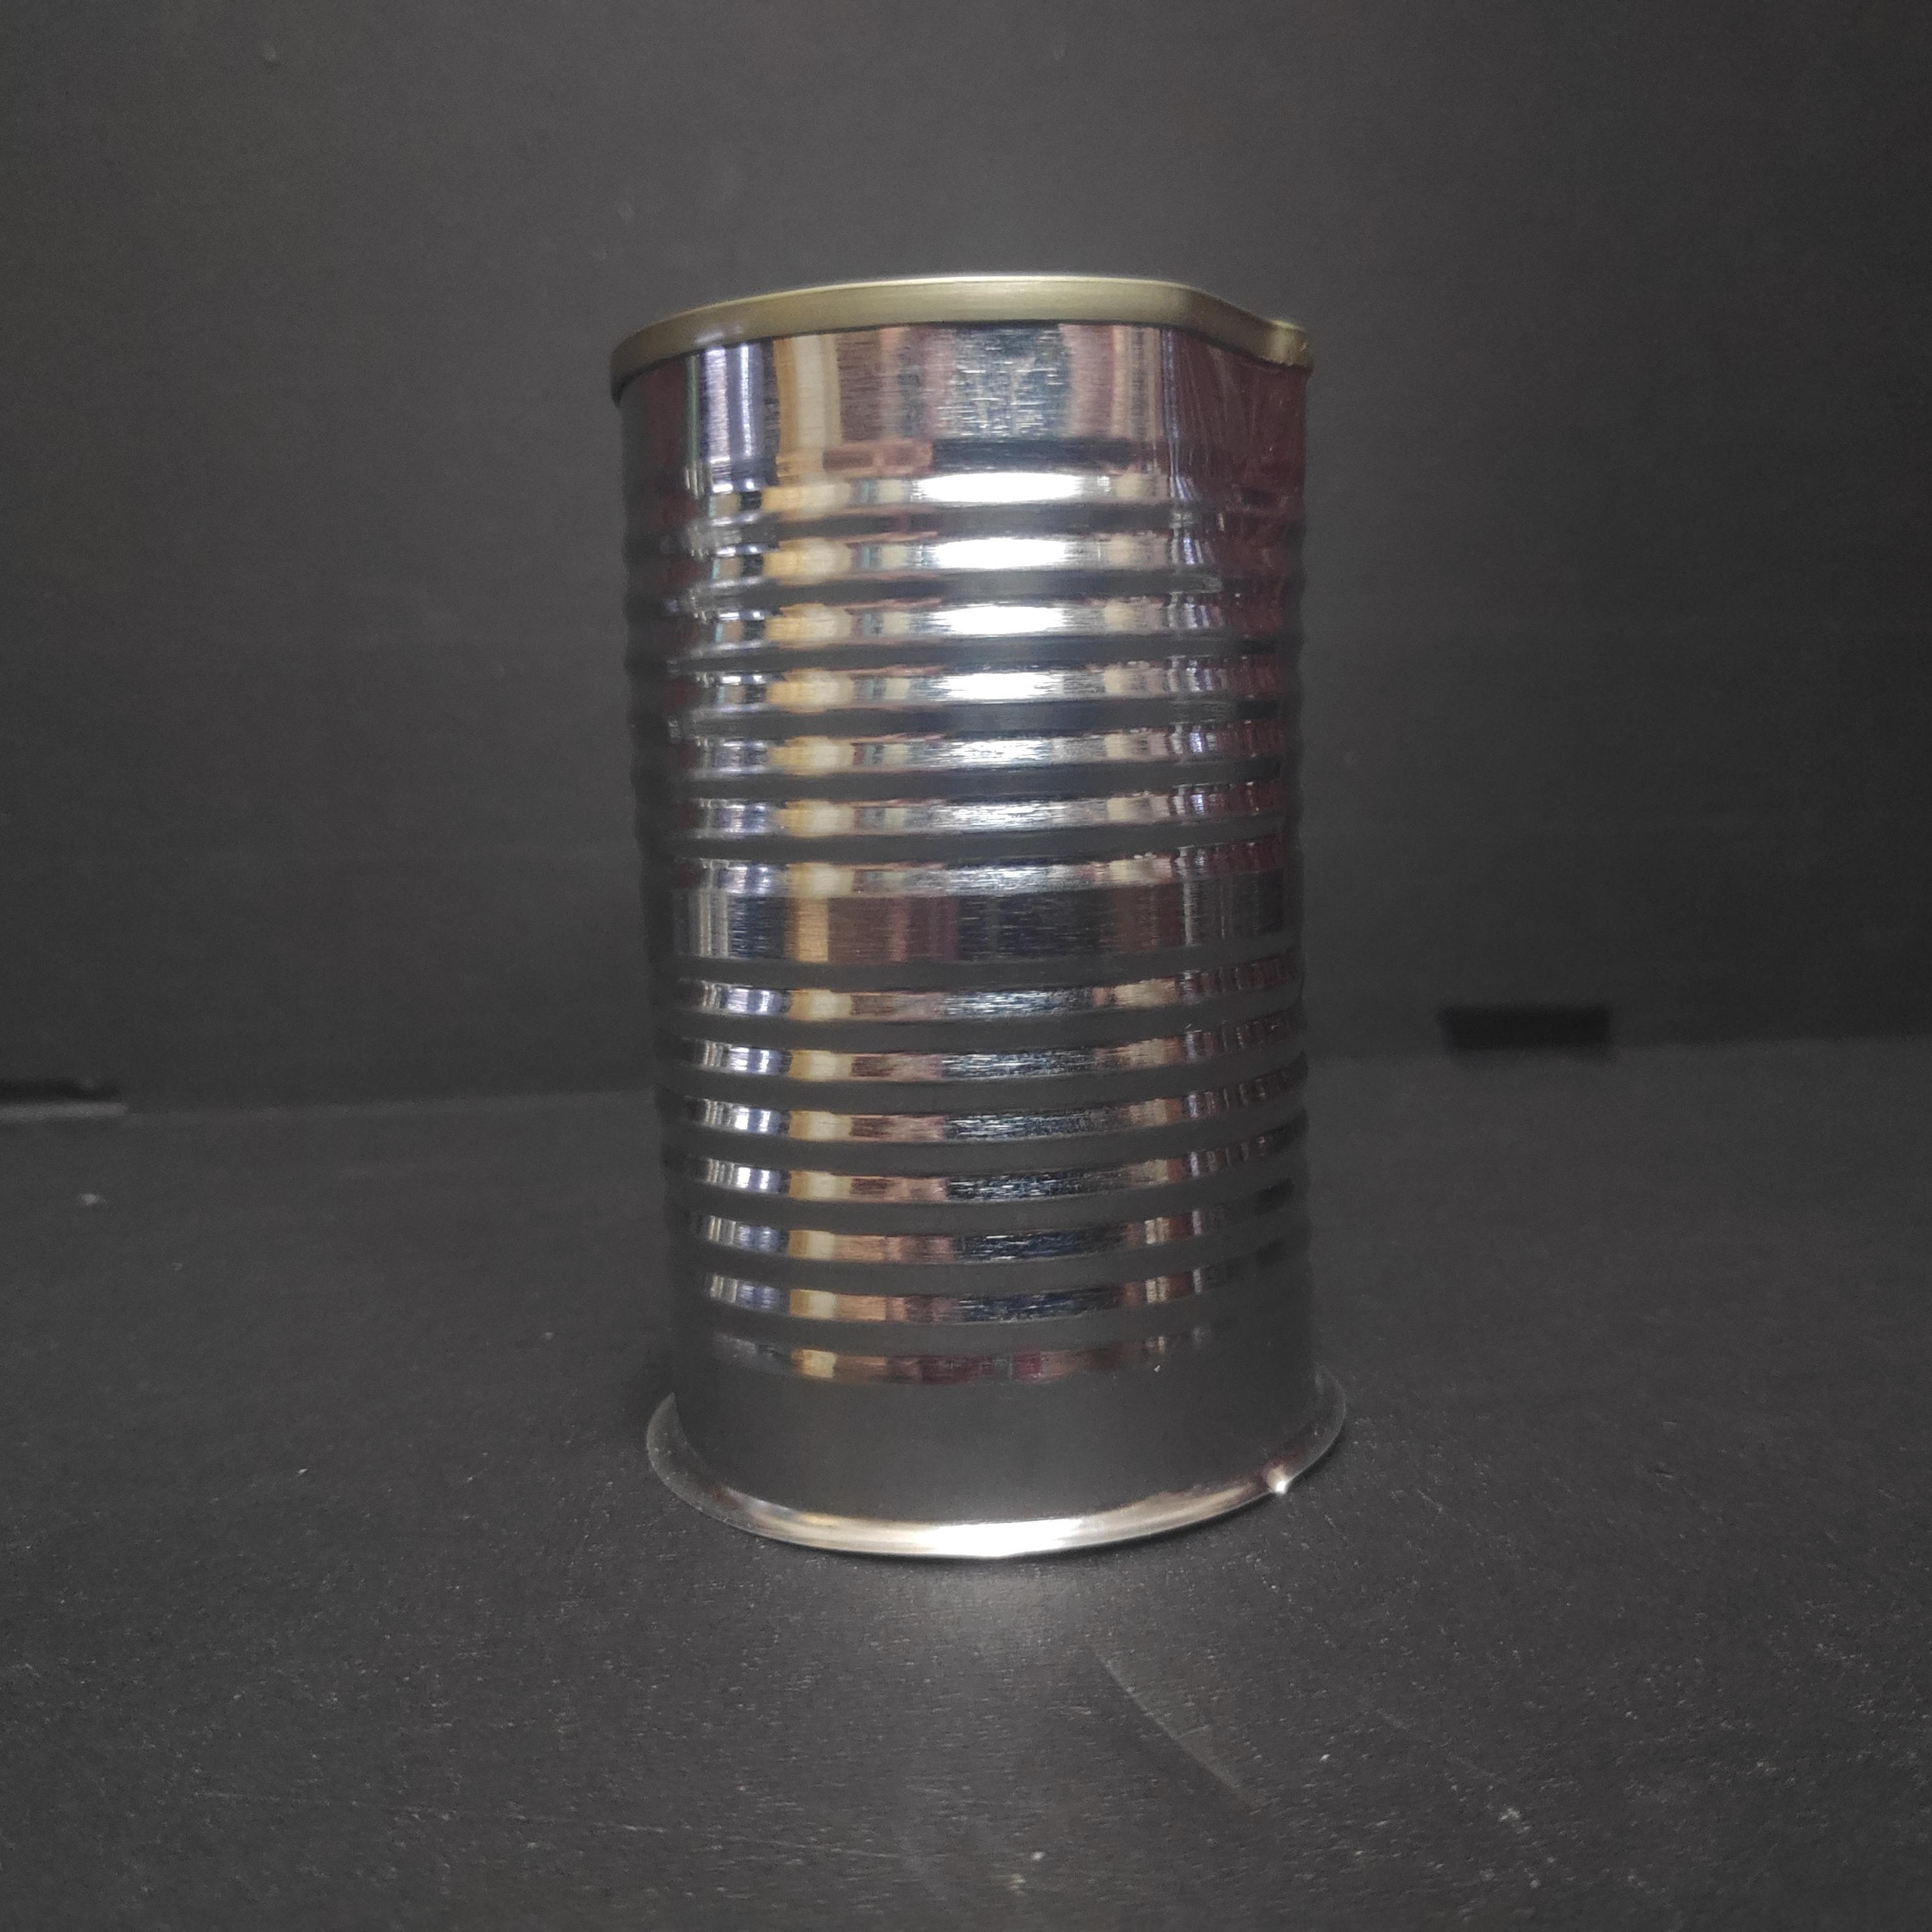Dented: (575, 246, 1396, 1578)
